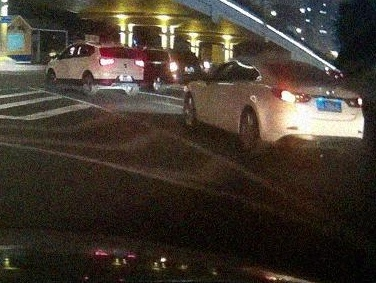L_light: (272, 87, 311, 104), (100, 58, 115, 65), (169, 62, 177, 72)
R_light: (344, 96, 363, 109), (134, 59, 144, 68), (199, 62, 204, 71)
T_light: (290, 64, 303, 67), (116, 47, 124, 49), (178, 50, 185, 52)
night-left: (260, 58, 365, 155)
night-no: (97, 44, 144, 95), (167, 49, 204, 94)
